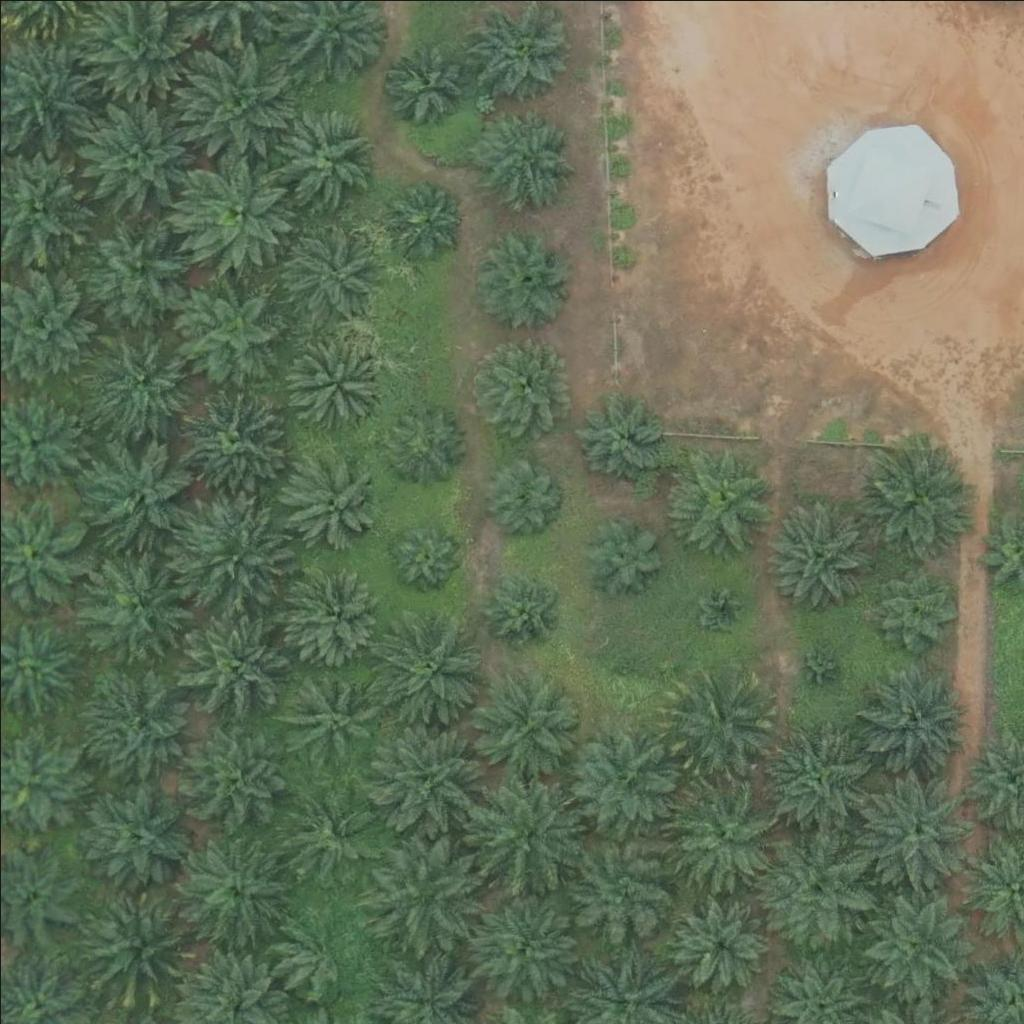Kelapa_Sawit: (372, 619, 485, 733), (469, 888, 582, 1002), (472, 778, 585, 892), (77, 780, 190, 893), (81, 670, 194, 783), (181, 833, 294, 946), (175, 716, 288, 829), (467, 669, 580, 782), (565, 829, 678, 942), (857, 885, 970, 998), (857, 772, 970, 885), (854, 657, 967, 770), (854, 444, 967, 557), (173, 498, 286, 611), (172, 381, 285, 494), (76, 550, 189, 663), (79, 436, 192, 549), (85, 325, 198, 438), (77, 210, 190, 323), (176, 604, 288, 718), (369, 838, 481, 952), (367, 721, 479, 835), (663, 443, 775, 557), (178, 40, 290, 154), (664, 668, 776, 781), (81, 885, 193, 998), (561, 722, 673, 835), (666, 778, 778, 891), (766, 832, 878, 945), (762, 725, 874, 838), (762, 494, 874, 607), (178, 272, 290, 385), (179, 151, 291, 264), (76, 99, 188, 212), (669, 893, 769, 994), (477, 109, 577, 210), (285, 560, 385, 661), (279, 448, 379, 549), (284, 330, 384, 431), (281, 785, 381, 885), (277, 666, 377, 766), (467, 336, 567, 436), (472, 229, 572, 329), (274, 217, 374, 317), (272, 104, 372, 204), (276, 907, 364, 995), (570, 396, 658, 484), (868, 561, 955, 649), (577, 511, 664, 599), (478, 561, 565, 649), (481, 452, 568, 540), (379, 397, 466, 485), (381, 41, 468, 129), (386, 181, 461, 257), (388, 518, 463, 593), (790, 640, 840, 691), (696, 584, 746, 635), (599, 648, 649, 698)
